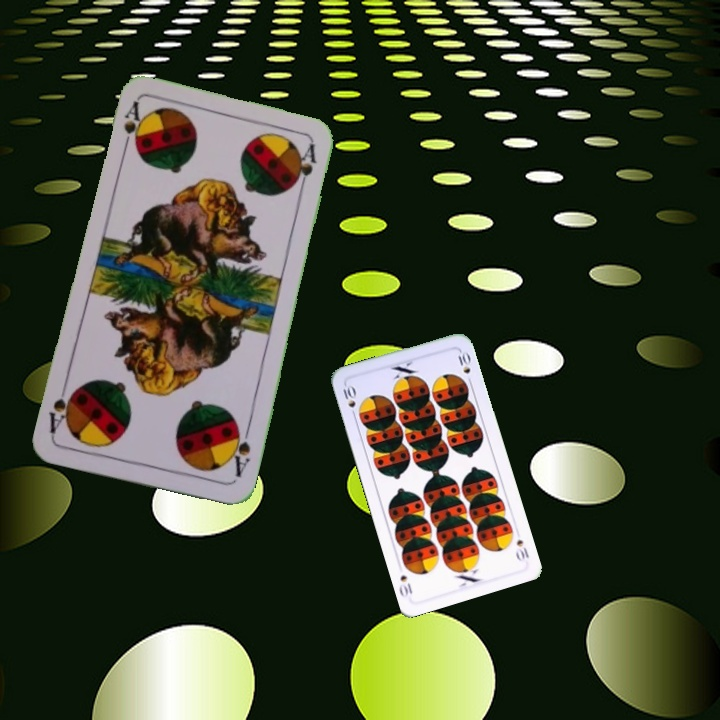S10: (338, 380, 359, 421), (512, 535, 531, 564)
SA: (118, 97, 147, 156), (224, 422, 253, 480)
